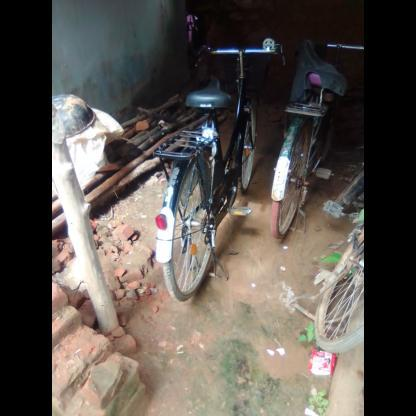Bicycle: (129, 25, 264, 299), (265, 31, 356, 245)
